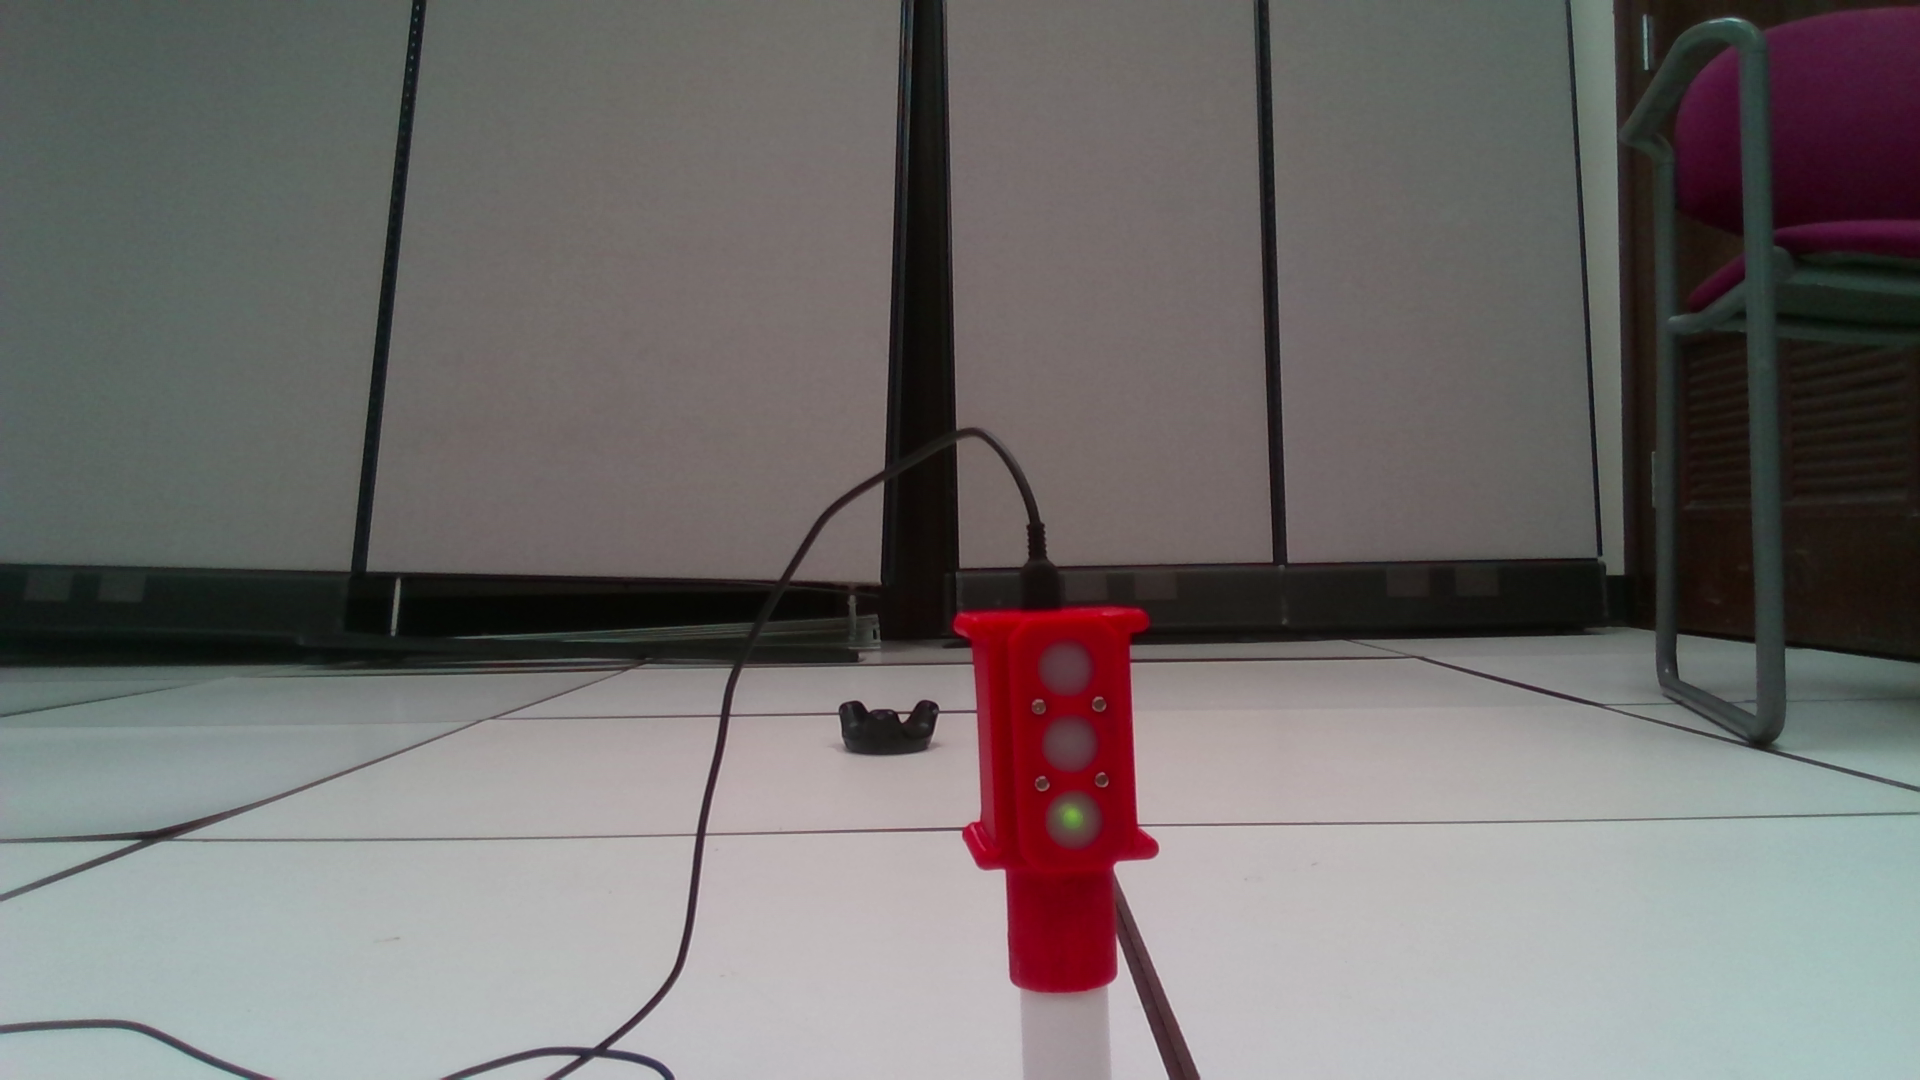stoplight: (945, 605, 1160, 996)
